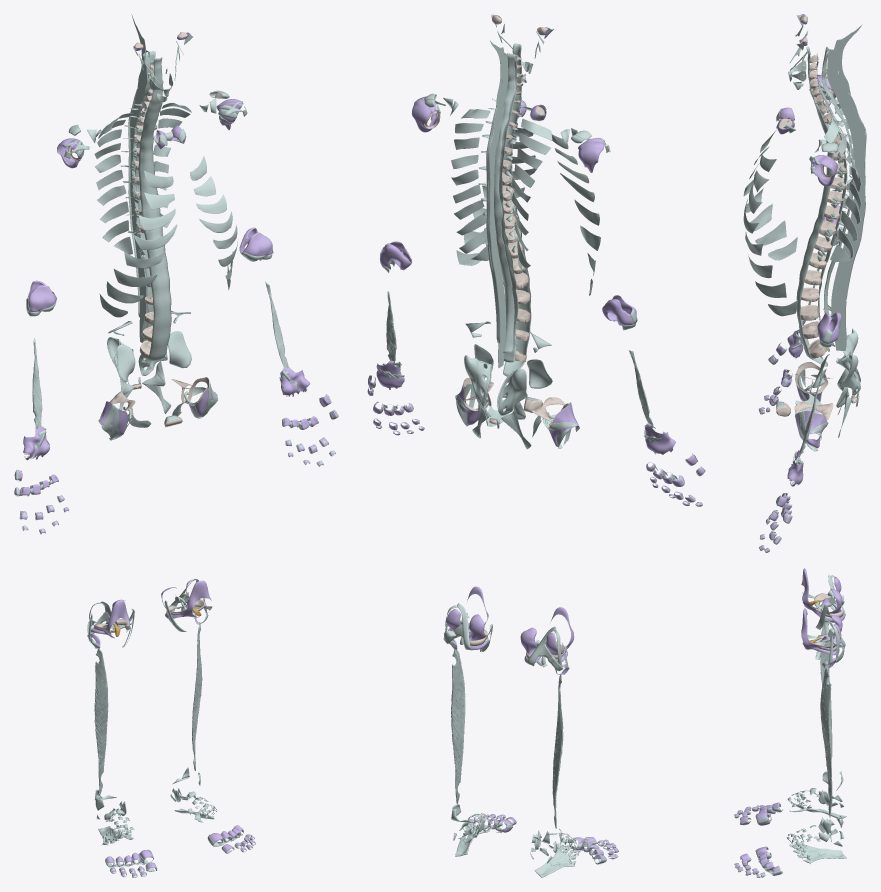
File: joints.glb
3 views of the same model, side by side, from view 1: azimuth 30°, elevation 25°; view 2: azimuth 150°, elevation 25°; view 3: azimuth 270°, elevation 25° (orthographic). The views are drawn at different scales.
Parts seen in each view (by area): view 1: Anterior longitudinal ligament, External intercostal membrane.r, Internal intercostal membrane.r, External intercostal membrane.l, Interosseous membrane of leg.r, Interspinous ligaments, Internal intercostal membrane.l, Articular capsule of elbow joint.l, Interosseous membrane of leg.l, Articular capsule of elbow joint.r, Anterior sacro-iliac ligament.l, Ligamenta flava (+1 smaller); view 2: Internal intercostal membrane.l, Ligamenta flava, Interspinous ligaments, Internal intercostal membrane.r, Interosseous membrane of leg.l, Anterior longitudinal ligament, External intercostal membrane.r, Posterior longitudinal ligament, Supraspinous ligament, Posterior sacro-iliac ligament.r, External intercostal membrane.l, Posterior sacro-iliac ligament.l (+4 smaller); view 3: Interspinous ligaments, External intercostal membrane.l, Internal intercostal membrane.l, Anterior longitudinal ligament, External intercostal membrane.r, Interosseous membrane of leg.l, Ligamenta flava, Articular capsule of knee joint.r, Posterior longitudinal ligament, Articular capsule of knee joint.l, Long plantar ligament.l, Articular capsule of elbow joint.l (+12 smaller).
Boxes of the visible parts, left/top/right/bottom form: Anterior longitudinal ligament: left=138, top=57, right=171, bottom=363; External intercostal membrane.r: left=99, top=170, right=177, bottom=317; Internal intercostal membrane.r: left=94, top=113, right=132, bottom=254; External intercostal membrane.l: left=190, top=156, right=238, bottom=289; Interosseous membrane of leg.r: left=94, top=648, right=108, bottom=794; Interspinous ligaments: left=130, top=50, right=149, bottom=342; Internal intercostal membrane.l: left=153, top=102, right=191, bottom=235; Articular capsule of elbow joint.l: left=239, top=227, right=272, bottom=261; Interosseous membrane of leg.l: left=192, top=622, right=202, bottom=770; Articular capsule of elbow joint.r: left=27, top=280, right=56, bottom=311; Anterior sacro-iliac ligament.l: left=167, top=331, right=191, bottom=368; Ligamenta flava: left=132, top=51, right=155, bottom=335; Internal intercostal membrane.l: left=451, top=109, right=490, bottom=260; Ligamenta flava: left=494, top=53, right=515, bottom=353; Interspinous ligaments: left=488, top=53, right=508, bottom=368; Internal intercostal membrane.r: left=512, top=119, right=552, bottom=271; Interosseous membrane of leg.l: left=451, top=649, right=465, bottom=804; Anterior longitudinal ligament: left=502, top=43, right=531, bottom=376; External intercostal membrane.r: left=551, top=134, right=600, bottom=295; Posterior longitudinal ligament: left=499, top=53, right=518, bottom=362; Supraspinous ligament: left=486, top=108, right=500, bottom=343; Posterior sacro-iliac ligament.r: left=497, top=368, right=527, bottom=415; External intercostal membrane.l: left=456, top=127, right=537, bottom=265; Posterior sacro-iliac ligament.l: left=464, top=355, right=491, bottom=411; Interspinous ligaments: left=826, top=49, right=865, bottom=350; External intercostal membrane.l: left=743, top=154, right=797, bottom=316; Internal intercostal membrane.l: left=824, top=116, right=861, bottom=262; Anterior longitudinal ligament: left=796, top=46, right=833, bottom=366; External intercostal membrane.r: left=743, top=129, right=797, bottom=260; Interosseous membrane of leg.l: left=820, top=667, right=832, bottom=817; Ligamenta flava: left=822, top=47, right=854, bottom=320; Articular capsule of knee joint.r: left=801, top=568, right=844, bottom=622; Posterior longitudinal ligament: left=816, top=53, right=847, bottom=351; Articular capsule of knee joint.l: left=801, top=608, right=842, bottom=655; Long plantar ligament.l: left=789, top=843, right=846, bottom=864; Articular capsule of elbow joint.l: left=817, top=312, right=841, bottom=343.
Bounding box in the file's own units: 0.6615 × 1.58 × 0.2308.
